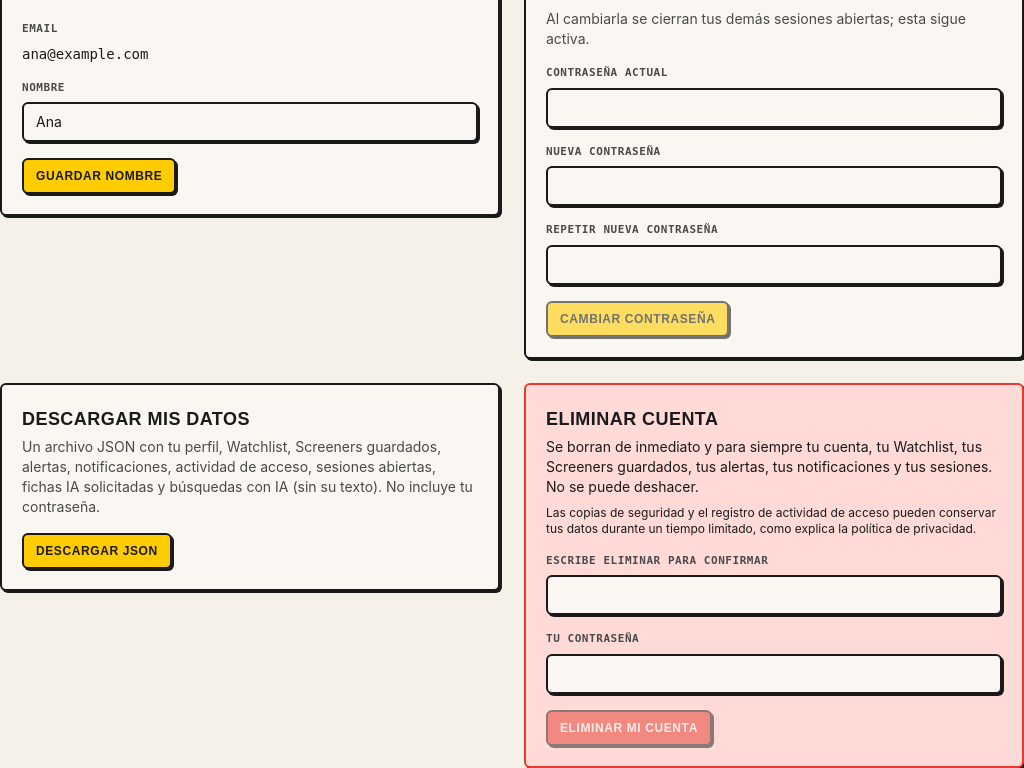
Test: downloads the export as a file
(page scrolled)
Click the button "Descargar JSON" at (97, 550), box [22, 532, 172, 568]
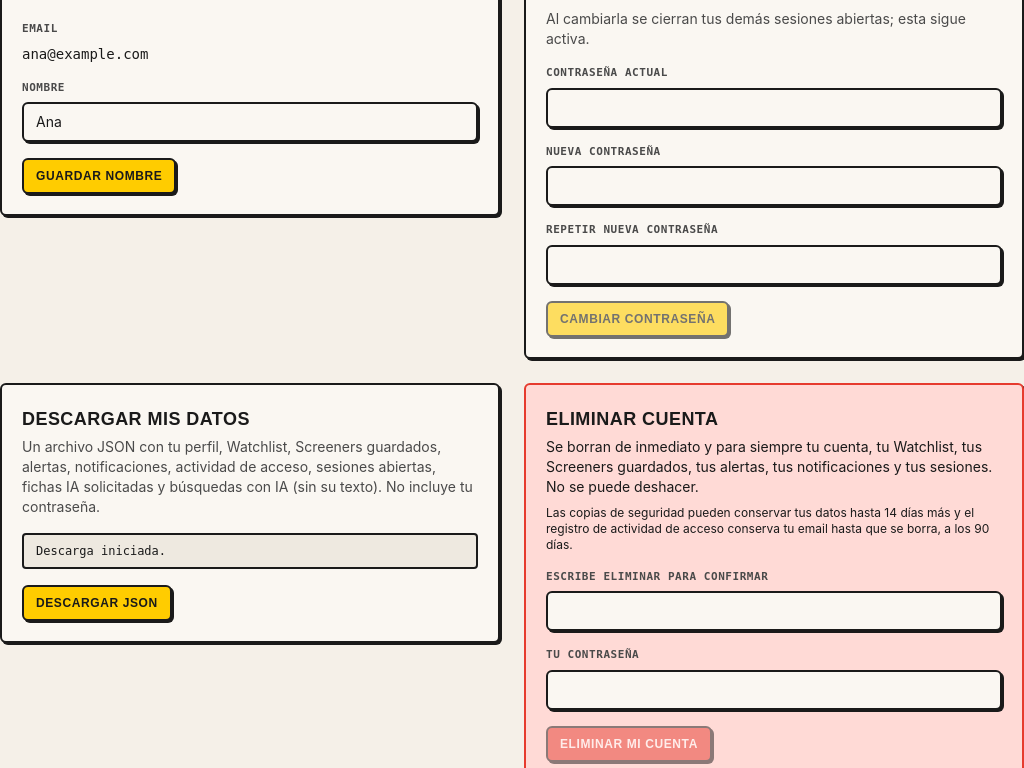
Result: the text "Descarga iniciada." is shown at [22, 532, 478, 568]
